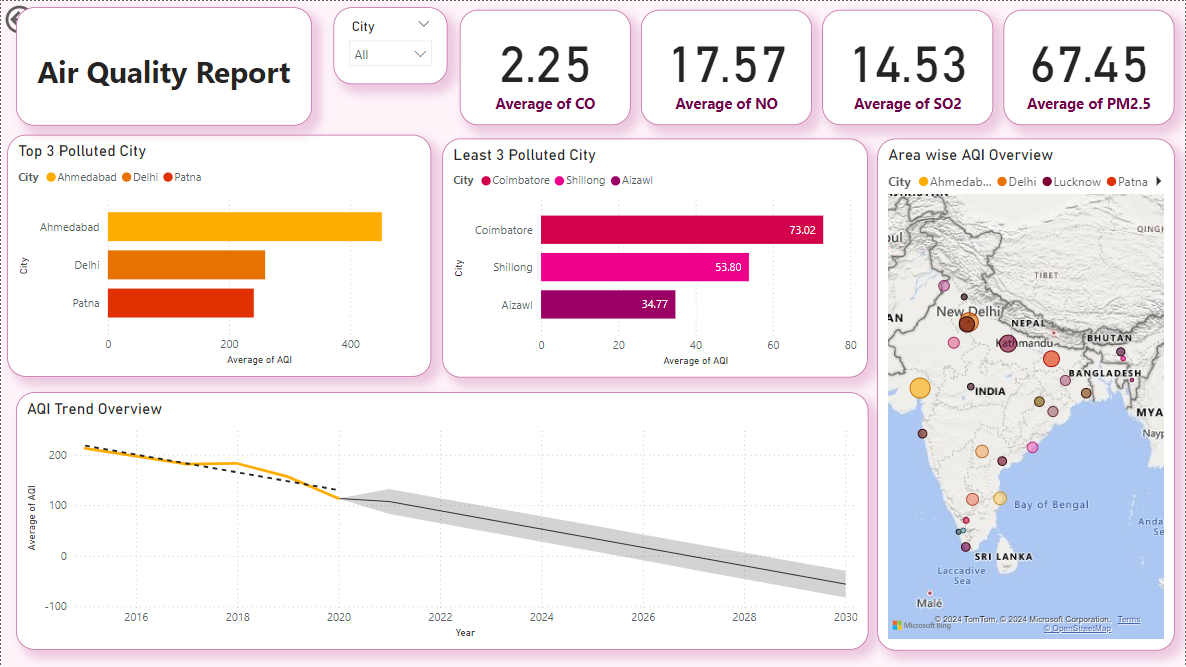

What the dashboard file says about the page in this screenshot:
{"tool":"powerbi","page":{"name":"Page 1","canvas":[1280,720],"ordinal":0},"visuals":[{"type":"lineChart","title":"AQI Trend Overview","fields":{"Category":["city_day.Date.Variation.Date Hierarchy.Year","city_day.Date.Variation.Date Hierarchy.Quarter","city_day.Date.Variation.Date Hierarchy.Month","city_day.Date.Variation.Date Hierarchy.Day"],"Y":["Avg(city_day.AQI)"]},"box":[16.7,423.3,921.7,278.3],"z":0},{"type":"slicer","fields":{"Values":["city_day.City"]},"box":[360,6.7,123.3,83.3],"z":1000},{"type":"barChart","title":"Top 3 Polluted City","fields":{"Category":["city_day.City"],"Y":["Avg(city_day.AQI)"],"Series":["city_day.City"]},"box":[6.7,145,458.3,261.7],"z":2000},{"type":"barChart","title":"Least 3 Polluted City","fields":{"Category":["city_day.City"],"Y":["Avg(city_day.AQI)"],"Series":["city_day.City"]},"box":[476.7,148.3,460,258.3],"z":3000},{"type":"card","fields":{"Values":["Avg(city_day.CO)"]},"box":[495.7,10,185,125],"z":4000},{"type":"card","fields":{"Values":["Avg(city_day.NO)"]},"box":[691.8,10,185,125],"z":5000},{"type":"card","fields":{"Values":["Avg(city_day.SO2)"]},"box":[887.9,10,185,125],"z":6000},{"type":"card","fields":{"Values":["Avg(city_day.PM2.5)"]},"box":[1084,10,185,125],"z":7000},{"type":"map","title":"Area wise AQI Overview","fields":{"Category":["city_day.City"],"Size":["Sum(city_day.AQI)"],"Series":["city_day.City"]},"box":[946.7,148.3,321.7,553.3],"z":8000},{"type":"actionButton","box":[0,0,100,40],"z":9000},{"type":"textbox","box":[16.7,6.7,320,128.3],"z":10000}]}

Visuals, with their boxes in screenshot pixels (x1, y1, x2, y2), scaled from the page's 1280x720 canvas onto the 1186x667 screenshot:
"AQI Trend Overview" lineChart: 15/392/869/650
slicer - city_day.City: 334/6/448/83
"Top 3 Polluted City" barChart: 6/134/431/377
"Least 3 Polluted City" barChart: 442/137/868/377
card - Avg(city_day.CO): 459/9/631/125
card - Avg(city_day.NO): 641/9/812/125
card - Avg(city_day.SO2): 823/9/994/125
card - Avg(city_day.PM2.5): 1004/9/1176/125
"Area wise AQI Overview" map: 877/137/1175/650
actionButton: 0/0/93/37
textbox: 15/6/312/125
